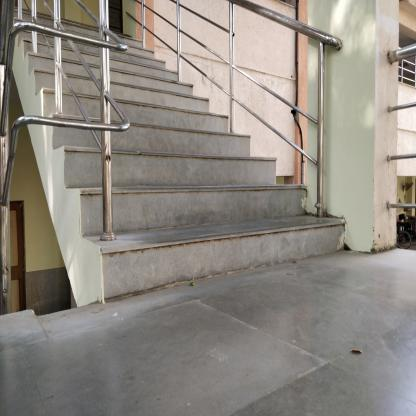stairs: (132, 96, 212, 304)
